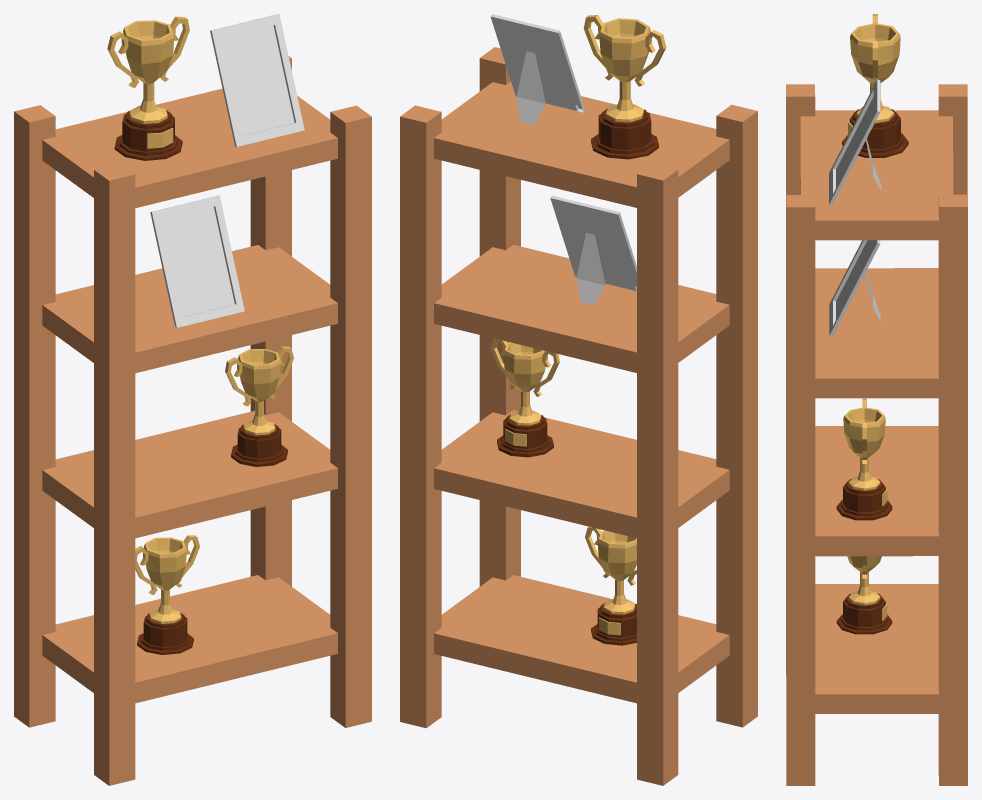
Rendered from awards.gltf.
The picture shows the model from 3 angles, left to right: view 1: azimuth 30°, elevation 25°; view 2: azimuth 150°, elevation 25°; view 3: azimuth 270°, elevation 25°; orthographic projection. The views are drawn at different scales.
Visible parts, largest first — view 1: bookcaseOpen; view 2: bookcaseOpen; view 3: bookcaseOpen.
Boxes of the visible parts, box(x1,y1,x2,y2) form: bookcaseOpen: box(14, 14, 371, 785); bookcaseOpen: box(400, 14, 757, 785); bookcaseOpen: box(786, 14, 967, 785).
Bounding box in the file's own units: 0.4003 × 1.03 × 0.2505.
